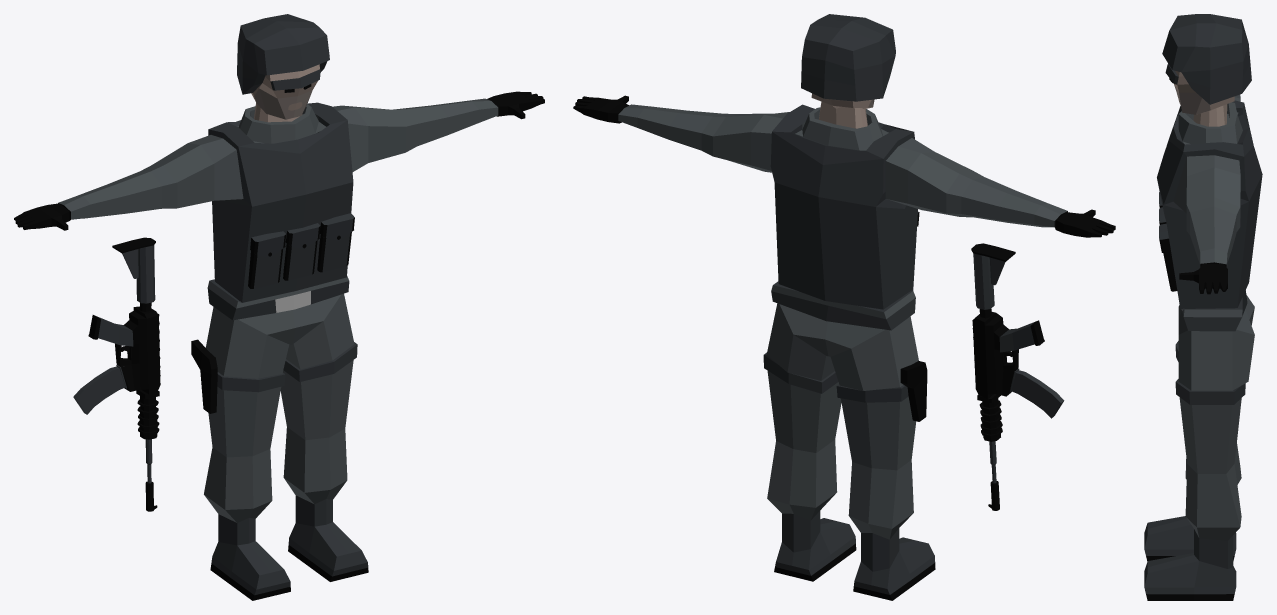
The model's file is soldier.glb.
3 views of the same model, side by side, from view 1: azimuth 30°, elevation 25°; view 2: azimuth 150°, elevation 25°; view 3: azimuth 270°, elevation 25° (orthographic). The views are drawn at different scales.
Parts seen in each view (by area): view 1: Cube.039, Cube.037; view 2: Cube.039, Cube.037; view 3: Cube.039.
Boxes of the visible parts, bbox=[...] form: Cube.039: bbox=[14, 14, 544, 600]; Cube.037: bbox=[73, 237, 160, 511]; Cube.039: bbox=[573, 14, 1115, 600]; Cube.037: bbox=[971, 243, 1064, 510]; Cube.039: bbox=[1144, 14, 1262, 600].
Size of the model in its own units: 5.28 by 5.21 by 1.02.
